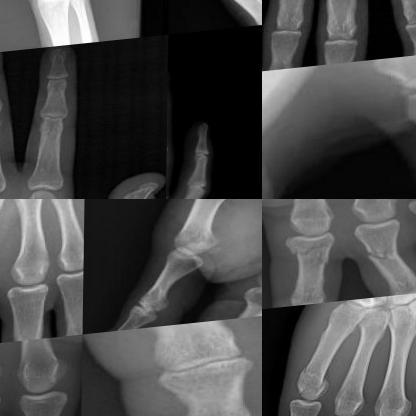fracture: (284, 232, 340, 275), (354, 236, 413, 274), (293, 361, 327, 400), (219, 199, 259, 210)
